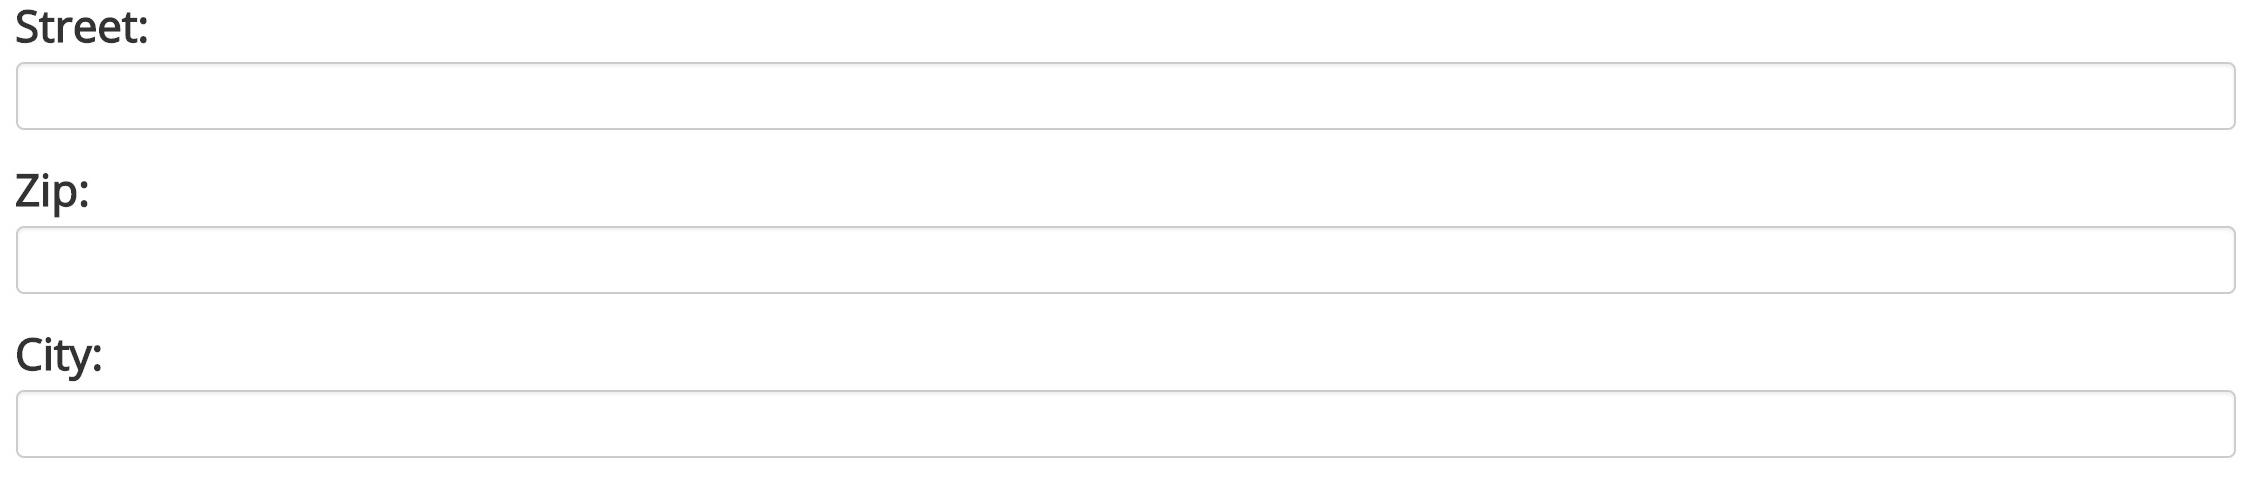field: (14, 58, 2234, 135), (10, 220, 2233, 297), (10, 386, 2234, 461)
field_with_label: (10, 6, 2242, 140), (4, 335, 2244, 466), (4, 170, 2240, 299)
